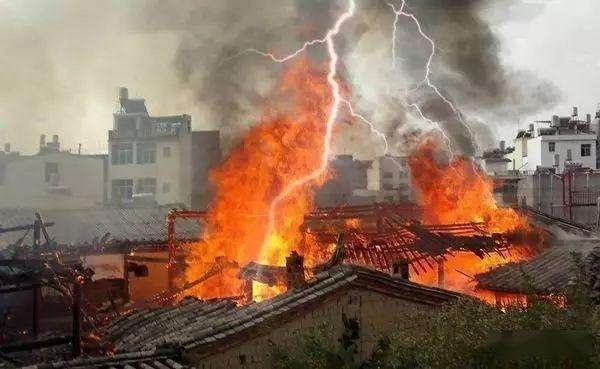fire: (161, 51, 540, 326)
